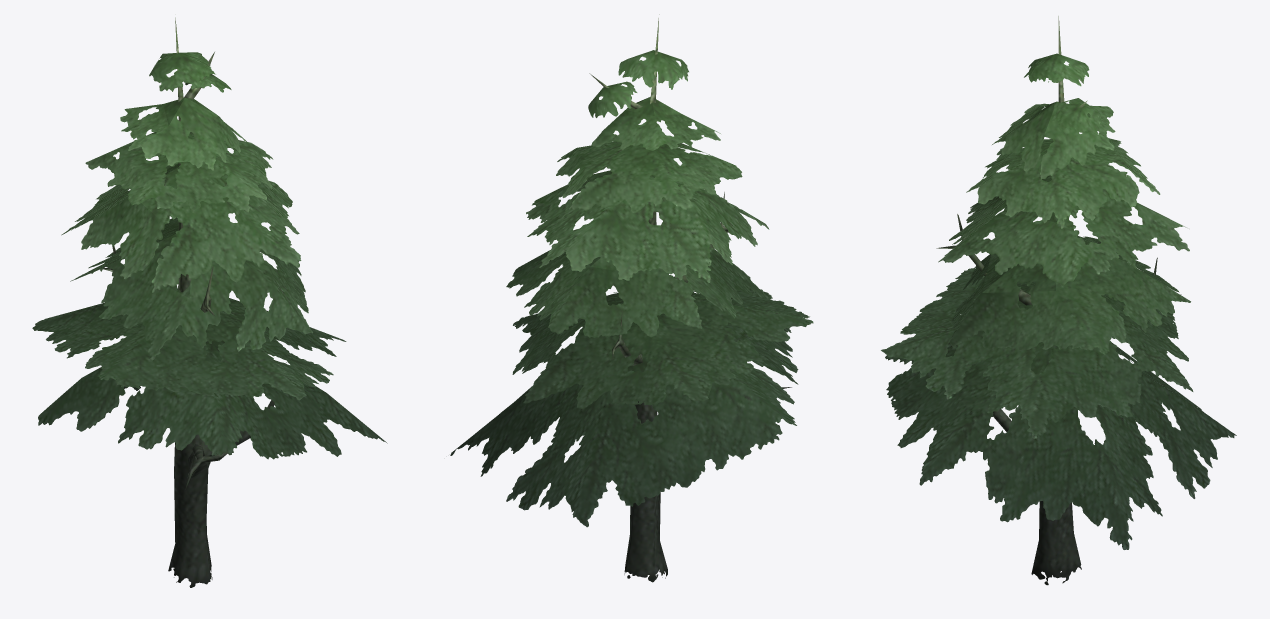
File: Tree02.FBX
3 renders of one model, left to right at view 1: azimuth 30°, elevation 25°; view 2: azimuth 150°, elevation 25°; view 3: azimuth 270°, elevation 25°, orthographic. The views are drawn at different scales.
Parts seen in each view (by area): view 1: Tree02; view 2: Tree02; view 3: Tree02.
Part boxes in pixels (x1,y1,x2,y2): Tree02: [32, 17, 387, 587]; Tree02: [450, 14, 813, 582]; Tree02: [881, 16, 1236, 585].
Size of the model in its own units: 3.34 by 3.36 by 5.42.
1 material, 1 textured.
